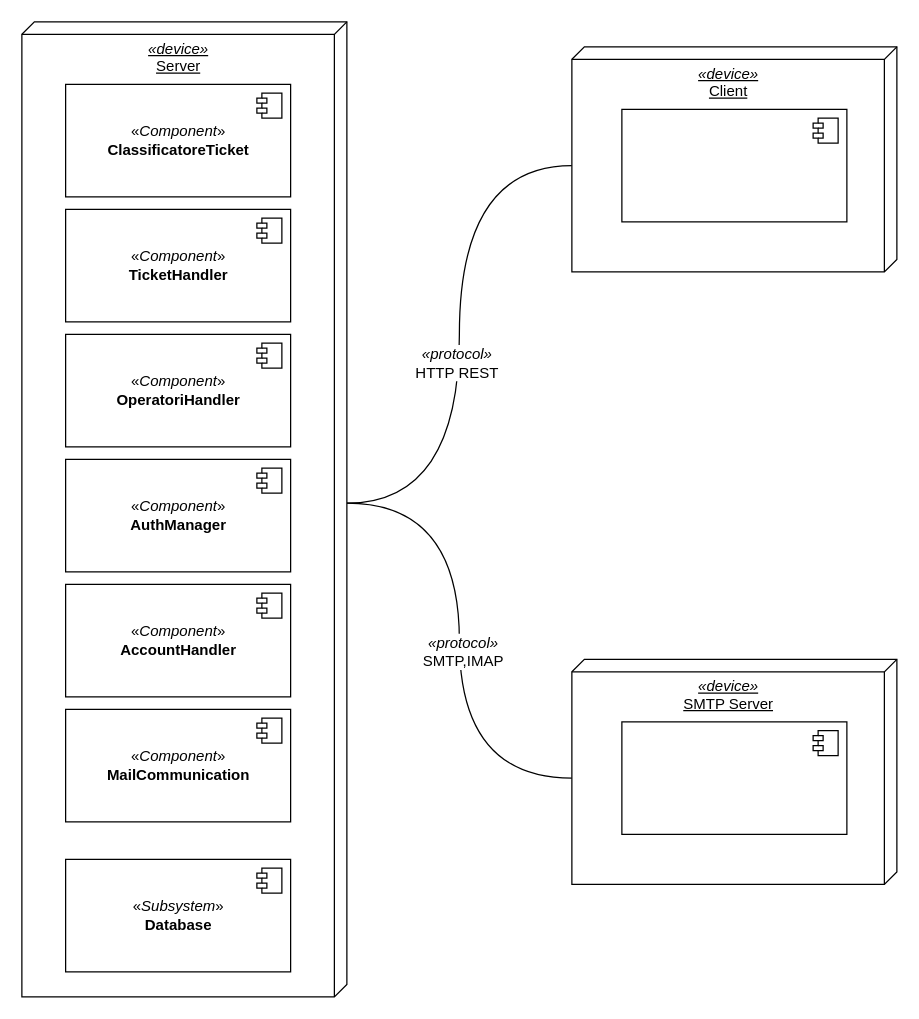
The diagram is 919 pixels wide and 1019 high, and some of its shapes have lost their labels. The shapes that lost their labels are listed below. From the top down, each one's centre as x and y in pixels, then its label:
At point 734,165: "« Component » TicketFrontEnd".
At point 734,777: "« Subsystem » EmailServer".
